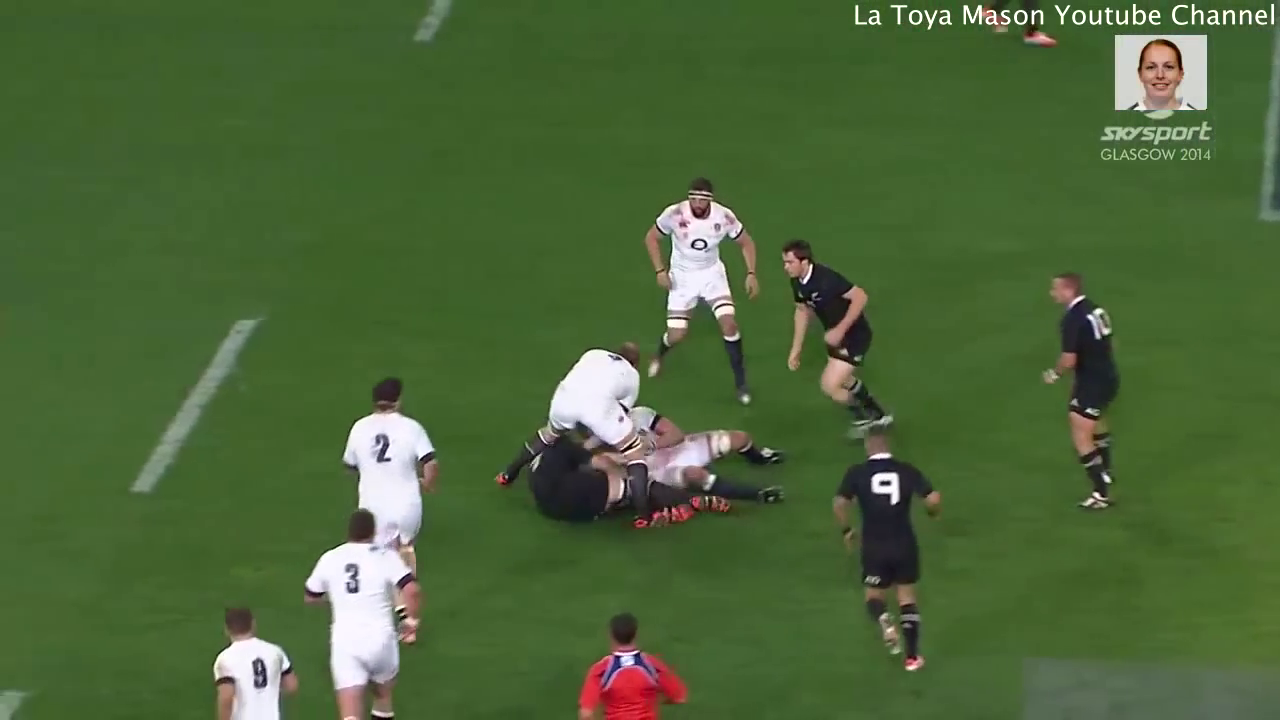player: (822, 420, 957, 680), (631, 172, 772, 420), (492, 332, 657, 529), (1031, 260, 1144, 531), (326, 369, 447, 614), (774, 233, 897, 441), (299, 502, 413, 720), (632, 410, 800, 512), (573, 608, 705, 720), (205, 601, 303, 720), (526, 436, 624, 521)
ruck: (485, 332, 790, 533)
